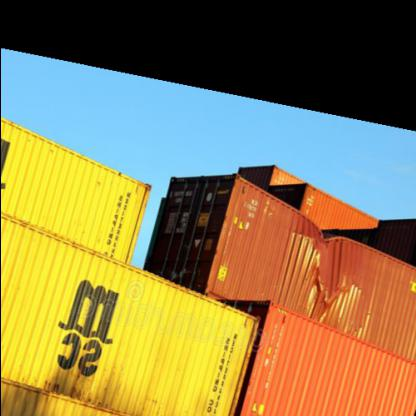Damage: (295, 212, 349, 306)
